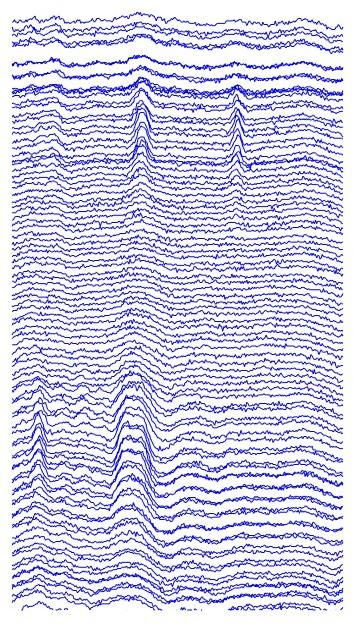defect: (226, 85, 254, 174), (129, 75, 155, 164)
